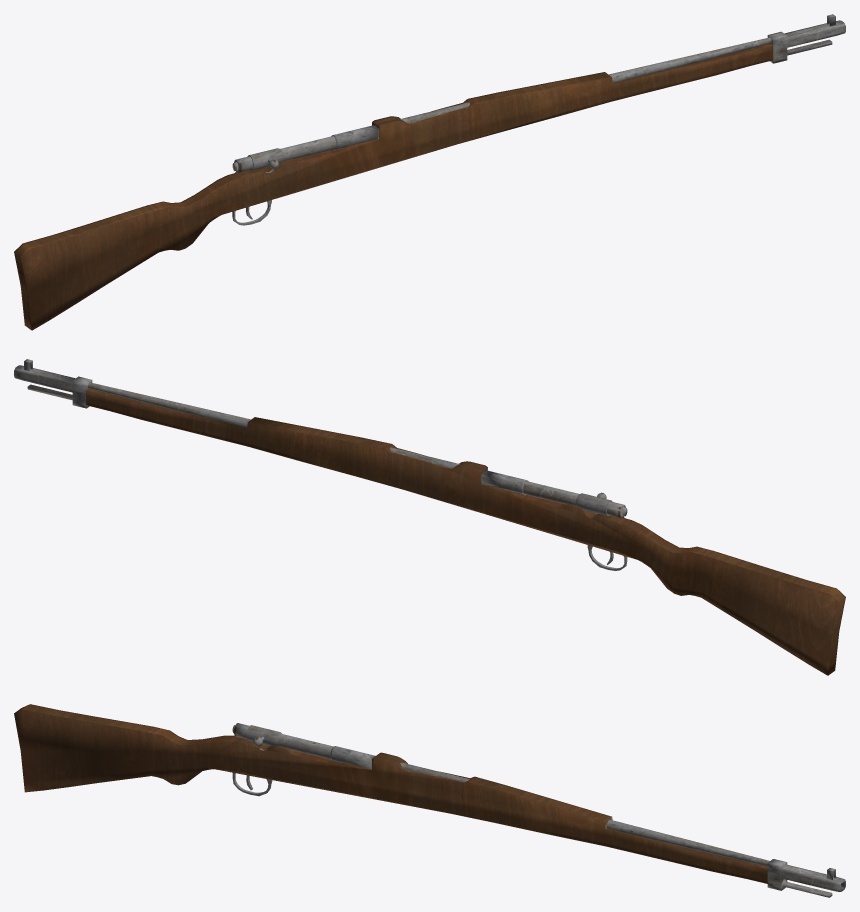
The model's file is Mauser.fbx.
3 views of the same model, one above another, from view 1: azimuth 30°, elevation 25°; view 2: azimuth 150°, elevation 25°; view 3: azimuth 330°, elevation 25° (orthographic).
Visible parts, largest first — view 1: Body, SteelParts, Ammo; view 2: Body, SteelParts, Ammo; view 3: Body, SteelParts, Ammo.
Part boxes in pixels (x1,y1,x2,y2): Body: [14, 43, 773, 330]; SteelParts: [232, 14, 845, 225]; Ammo: [232, 136, 336, 172]; Body: [85, 388, 845, 675]; SteelParts: [14, 359, 627, 570]; Ammo: [523, 481, 627, 518]; Body: [14, 704, 767, 883]; SteelParts: [232, 725, 845, 897]; Ammo: [232, 723, 333, 759].
Bounding box in the file's own units: 124 × 17.17 × 3.63.
